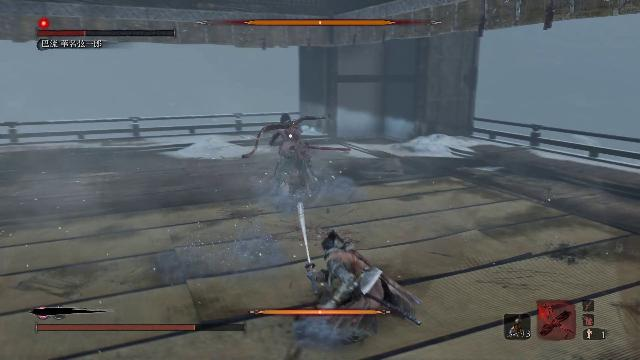sk: (285, 226, 421, 353)
